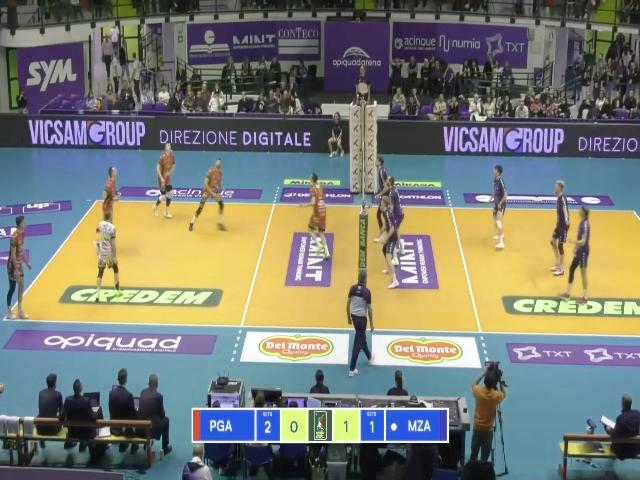volleyball court: (5, 199, 639, 333)
